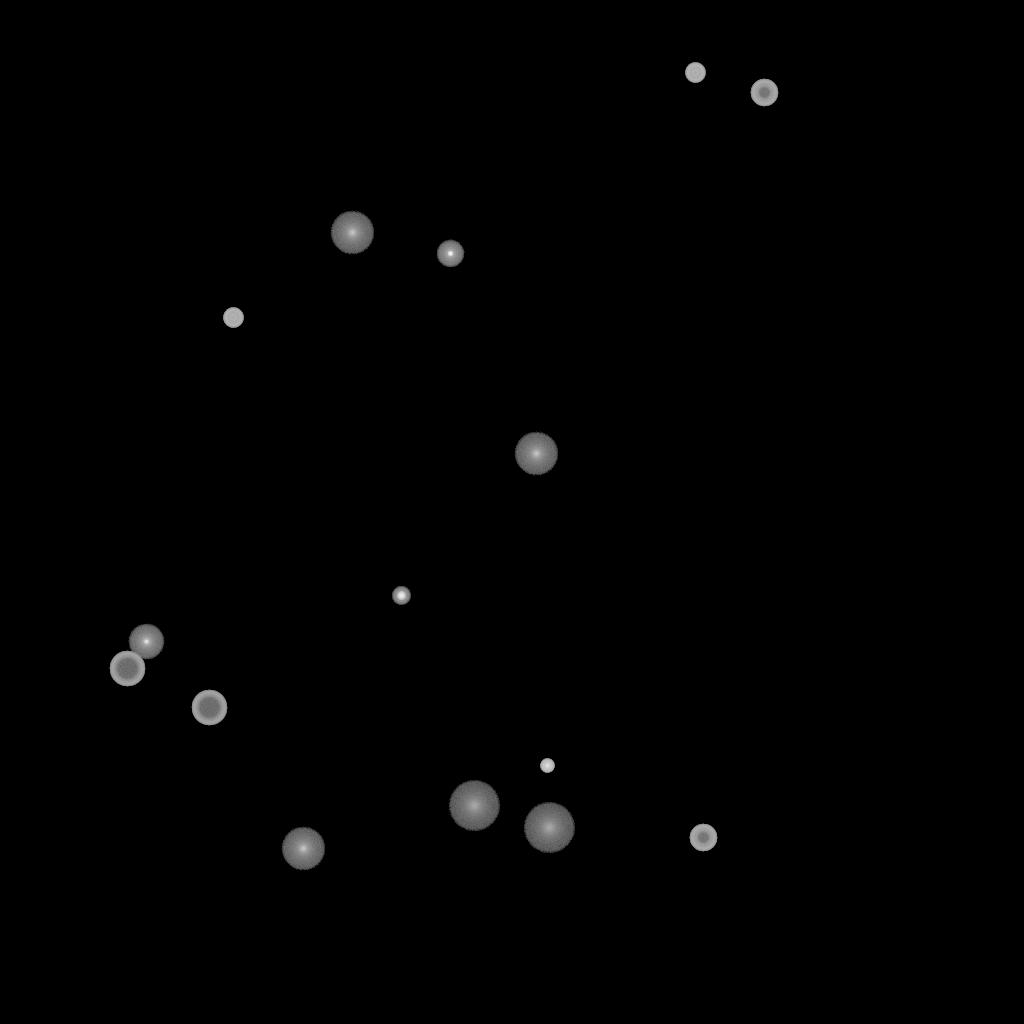depth:-10: (436, 240, 464, 268)
depth:-20: (392, 587, 410, 605)
depth:-30: (540, 759, 554, 773)
depth:-40: (223, 308, 243, 328), (685, 63, 705, 83)
depth:-50: (750, 79, 778, 107), (689, 824, 717, 852)
depth:-60: (109, 651, 145, 687), (191, 690, 227, 726)
depth:0: (128, 624, 164, 660)
depth:10: (514, 432, 558, 476), (281, 827, 325, 871), (330, 211, 374, 255)
depth:20: (448, 781, 500, 831), (523, 803, 575, 853)
